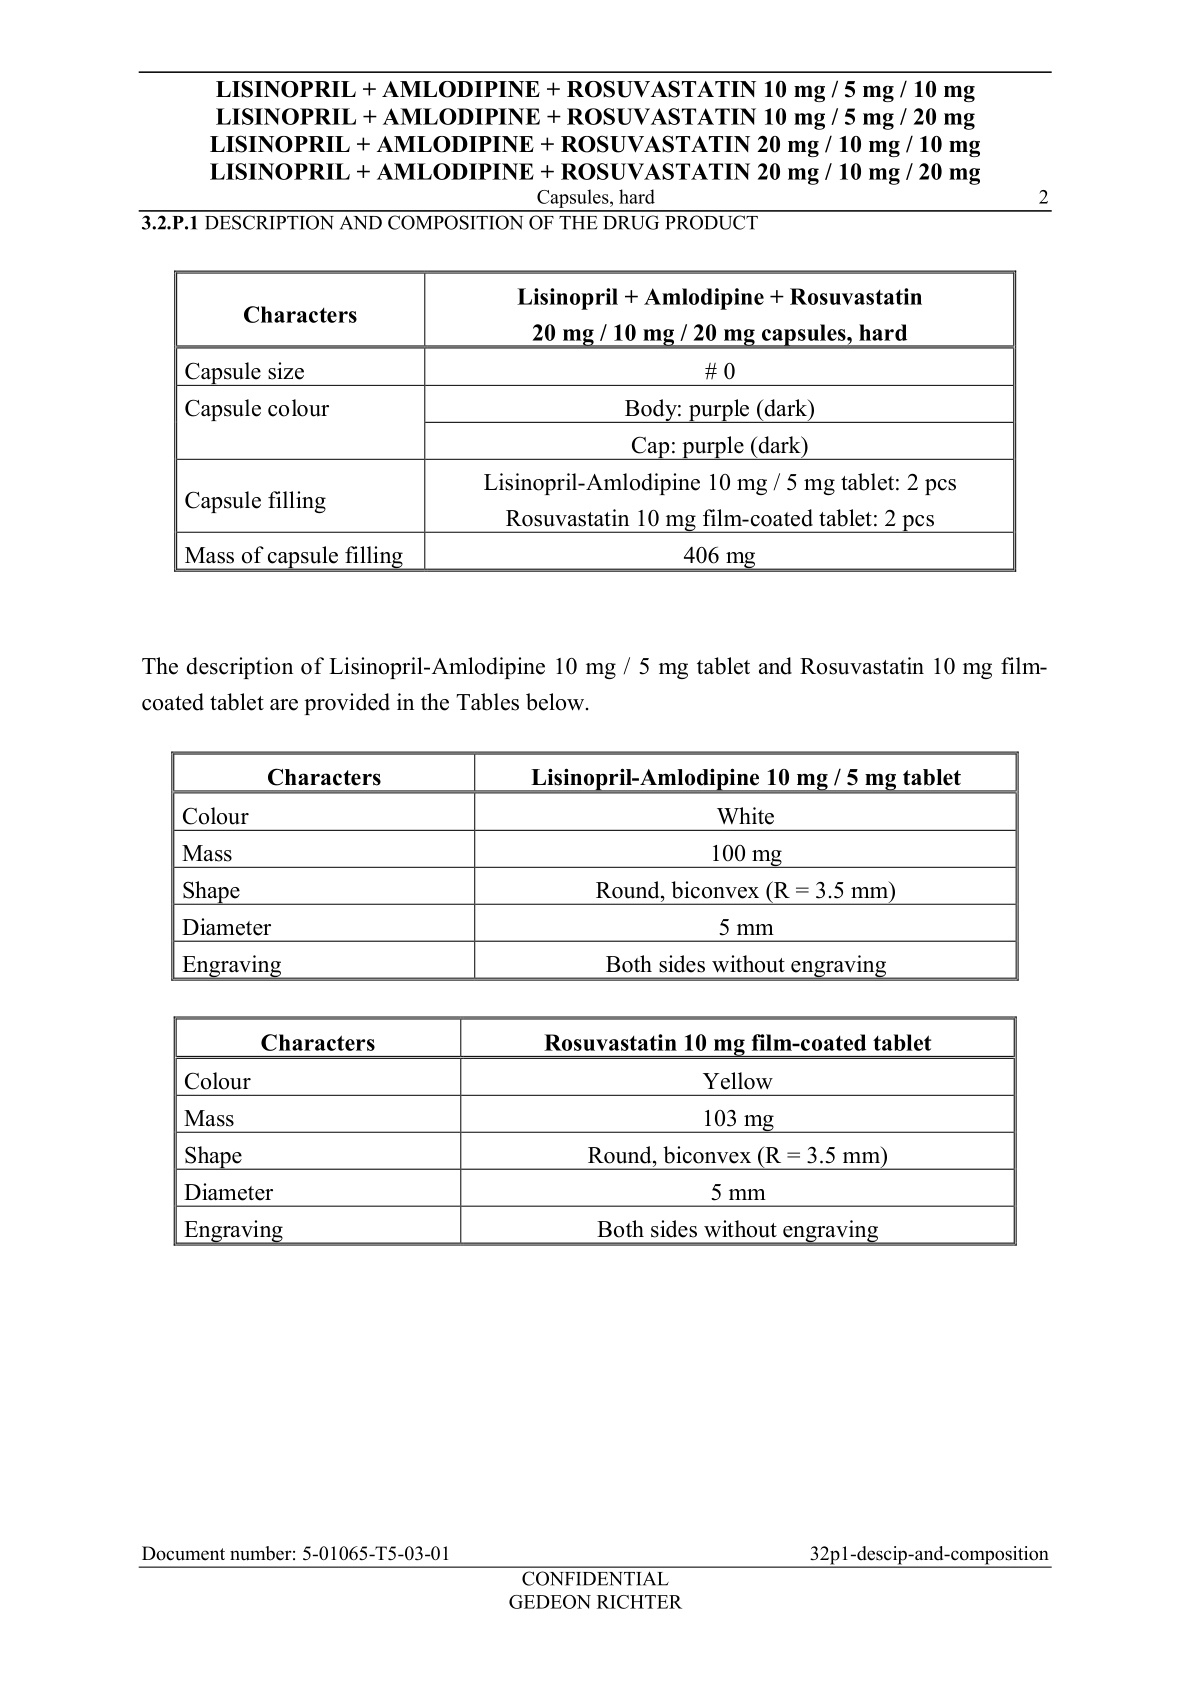full_lined: (169, 749, 1021, 982), (171, 1014, 1017, 1247)
merged_cells: (171, 269, 1016, 573)
